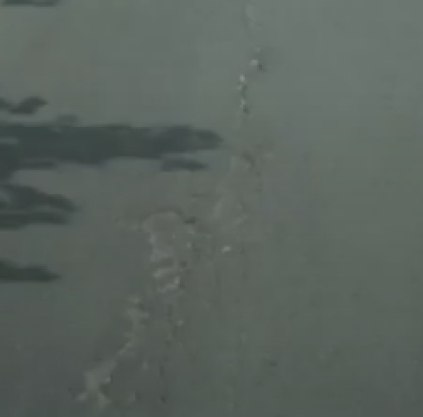Retak Memanjang: (72, 1, 291, 408)
